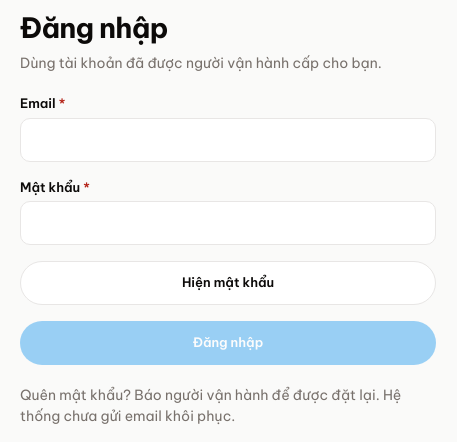
Test: TC-WEB-025 — password sign-in › does not submit until both fields have values
This screenshot has width=457, height=442.
Expected: the button "Đăng nhập" is disabled, [20,321,436,365]
Type "chu.vua@example.com" into the field labelled "Email *" at (228, 140), box [20,118,436,162]
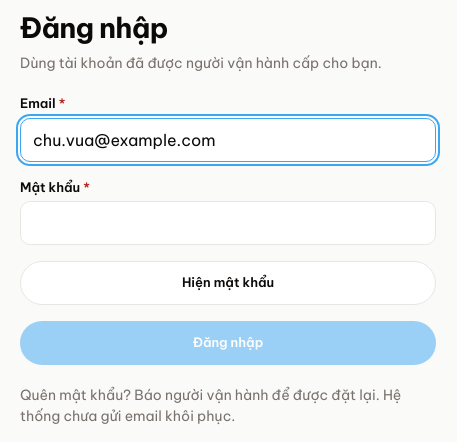
Expected: the button "Đăng nhập" is disabled, [20,321,436,365]
Type "x" into the password field labelled "Mật khẩu *" at (228, 223), box [20,201,436,245]
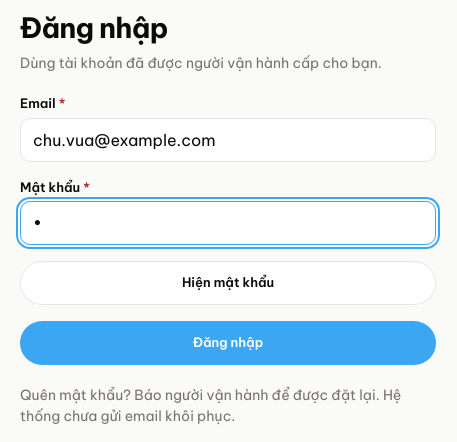
Expected: the button "Đăng nhập" is enabled, [20,321,436,365]
